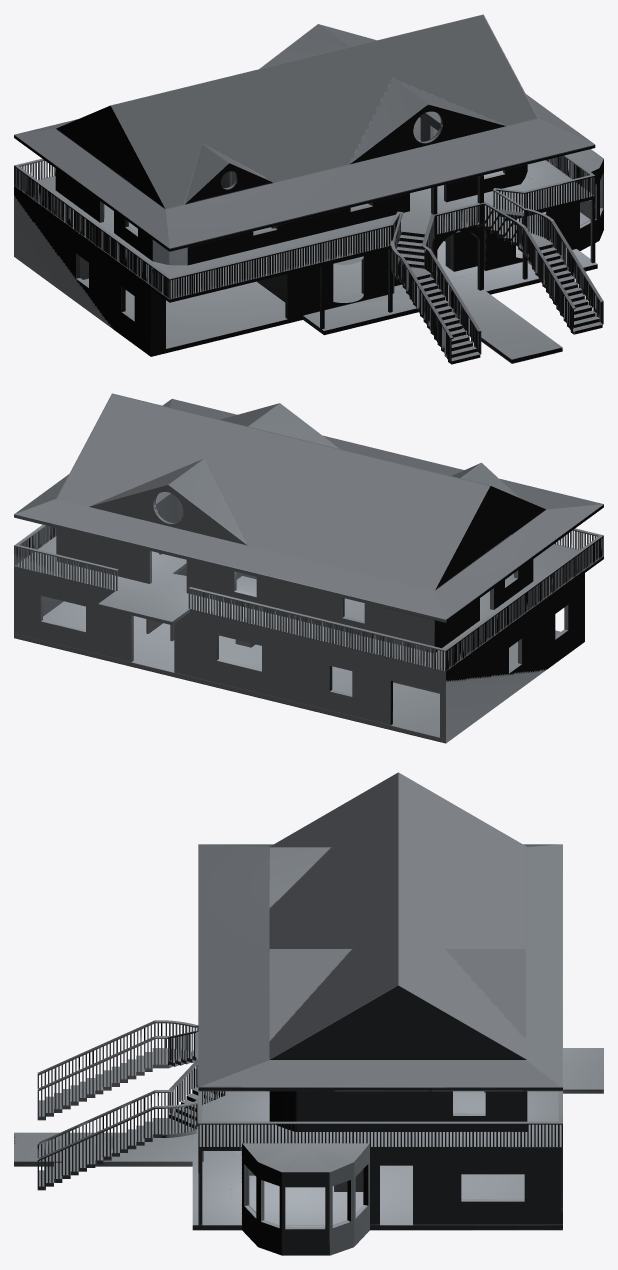
The model's file is house.dae.
The picture shows the model from 3 angles, top to bottom: view 1: azimuth 30°, elevation 25°; view 2: azimuth 150°, elevation 25°; view 3: azimuth 270°, elevation 25°; orthographic projection. The views are drawn at different scales.
Visible parts, largest first — view 1: group_0; view 2: group_0; view 3: group_0.
Boxes of the visible parts, x1,y1,x2,y2 form: group_0: [14, 14, 603, 364]; group_0: [14, 393, 603, 743]; group_0: [14, 772, 603, 1255].
Bounding box in the file's own units: 23.56 × 21.87 × 9.4.
Materials: 1 (1 with a texture image).
